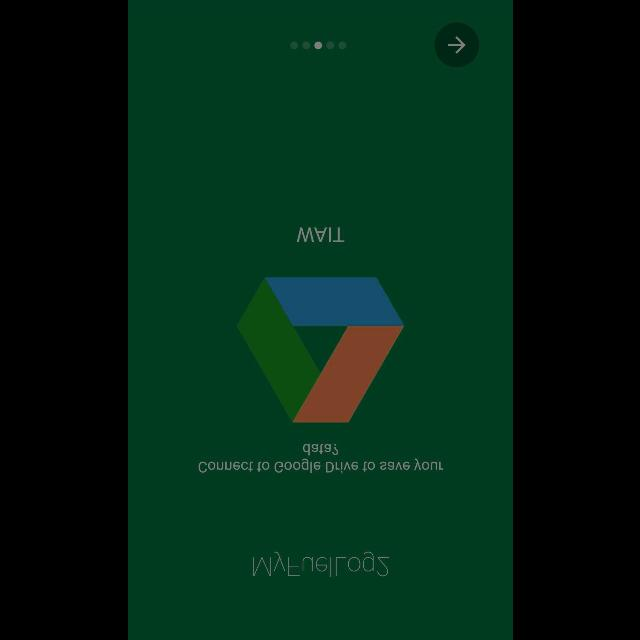button: (433, 22, 479, 68)
image: (236, 276, 404, 422)
pageindicator: (290, 40, 346, 50)
text: (198, 442, 444, 473), (251, 550, 389, 578), (296, 225, 344, 242)
